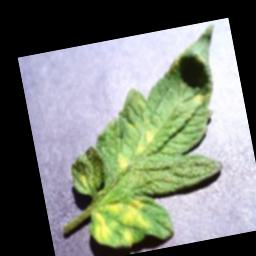Leaf_Mold: (89, 193, 155, 252), (114, 153, 129, 174)
